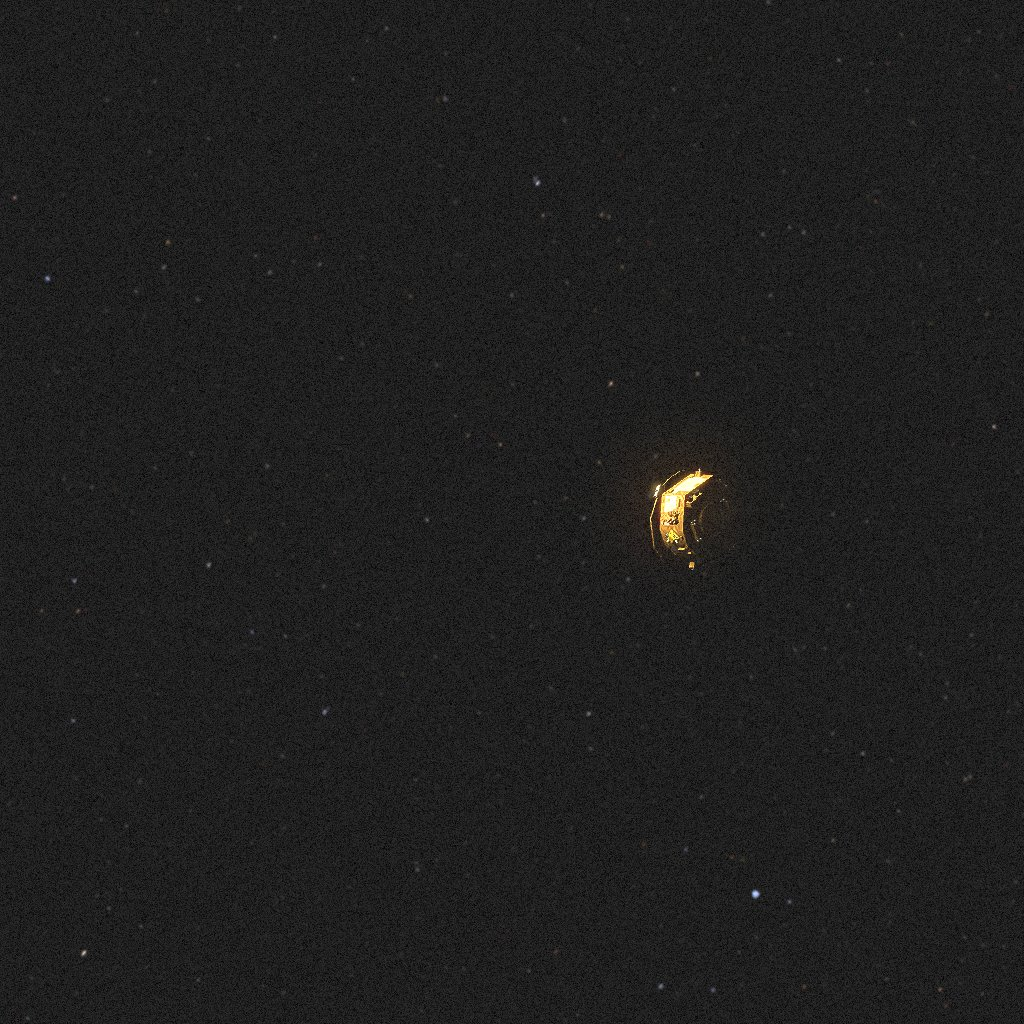lisa_pathfinder: (650, 469, 738, 571)
